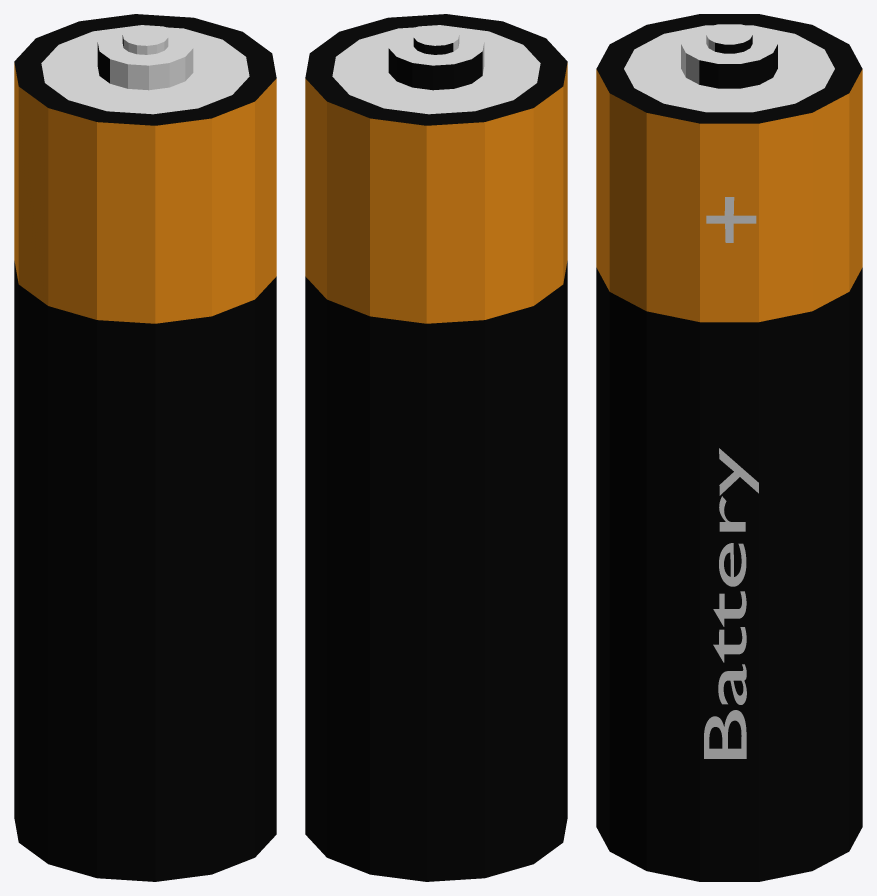
File: BatteryF.fbx
3 renders of one model, left to right at view 1: azimuth 30°, elevation 25°; view 2: azimuth 150°, elevation 25°; view 3: azimuth 270°, elevation 25°, orthographic.
Parts seen in each view (by area): view 1: Cylinder; view 2: Cylinder; view 3: Cylinder, Text, Text.001.
Boxes of the visible parts, x1,y1,x2,y2 form: Cylinder: [14, 14, 276, 881]; Cylinder: [305, 14, 567, 881]; Cylinder: [596, 14, 862, 881]; Text: [704, 448, 758, 758]; Text.001: [706, 197, 756, 242].
Size of the model in its own units: 3.82 by 12.96 by 3.91.
